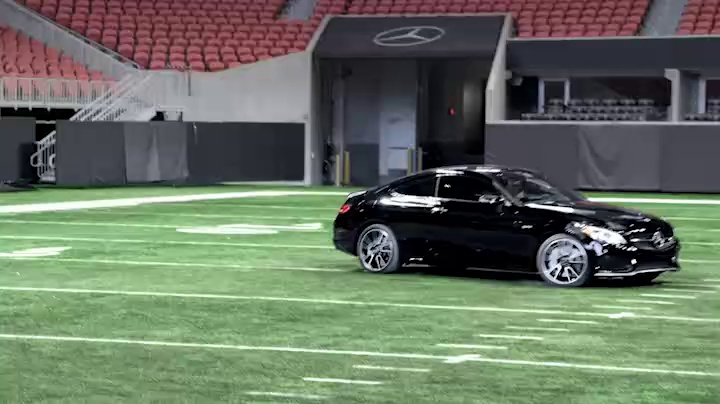amg: (332, 165, 682, 287)
